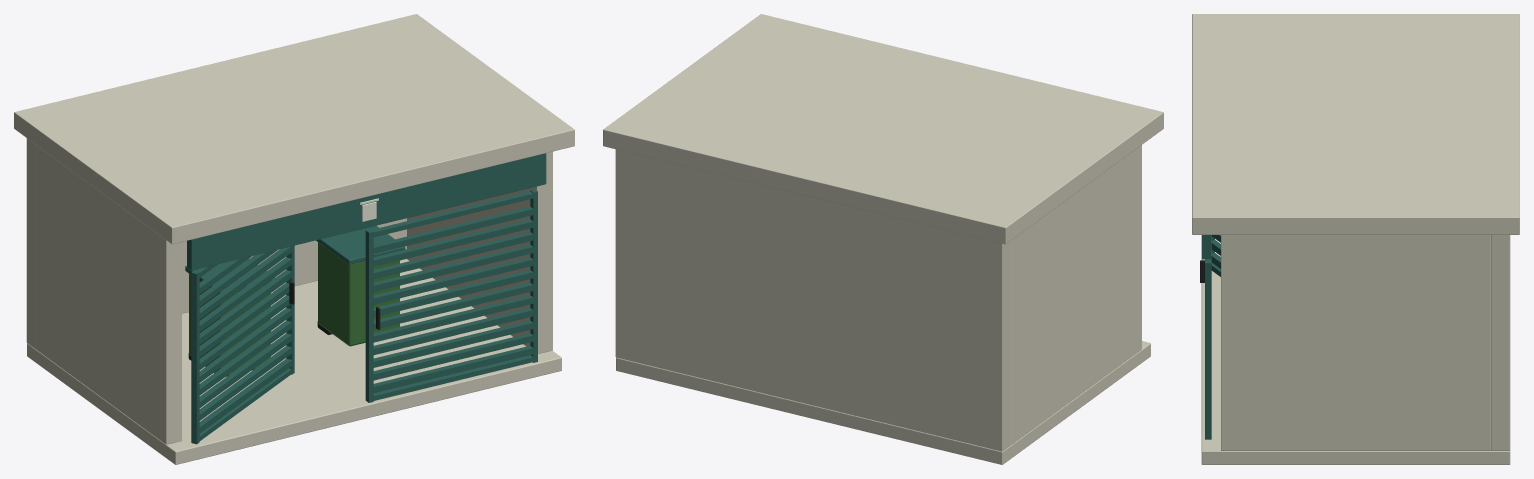
Rendered from source-edit.glb.
3 renders of one model, left to right at view 1: azimuth 30°, elevation 25°; view 2: azimuth 150°, elevation 25°; view 3: azimuth 270°, elevation 25°, orthographic. The views are drawn at different scales.
Visible parts, largest first — view 1: ROOF_Removable, SIDE_Wall_-1, BASE, FASCIA, SIDE_Wall_1, BIN_Body_1, REAR_Wall, LOUVER_1_10, LOUVER_1_1, LOUVER_1_11, LOUVER_1_4, LOUVER_1_8 (+26 smaller); view 2: REAR_Wall, ROOF_Removable, SIDE_Wall_-1, BASE; view 3: ROOF_Removable, SIDE_Wall_1, BASE, REAR_Wall, DOOR_Frame_1_2.09.
Boxes of the visible parts, x1,y1,x2,y2 form: ROOF_Removable: (14,14,574,244); SIDE_Wall_-1: (36,145,181,444); BASE: (27,259,561,464); FASCIA: (187,153,546,270); SIDE_Wall_1: (407,151,552,353); BIN_Body_1: (318,242,399,346); REAR_Wall: (26,138,406,348); LOUVER_1_10: (373,219,533,266); LOUVER_1_1: (373,333,533,380); LOUVER_1_11: (373,206,533,253); LOUVER_1_4: (373,295,533,342); LOUVER_1_8: (373,244,533,291); REAR_Wall: (615,149,1011,451); ROOF_Removable: (603,14,1163,244); SIDE_Wall_-1: (1011,145,1141,444); BASE: (616,341,1150,464); ROOF_Removable: (1192,14,1519,234); SIDE_Wall_1: (1221,235,1490,450); BASE: (1201,256,1510,464); REAR_Wall: (1491,235,1510,450); DOOR_Frame_1_2.09: (1205,261,1211,439).
Size of the model in its own units: 5 by 2.88 by 3.4.
